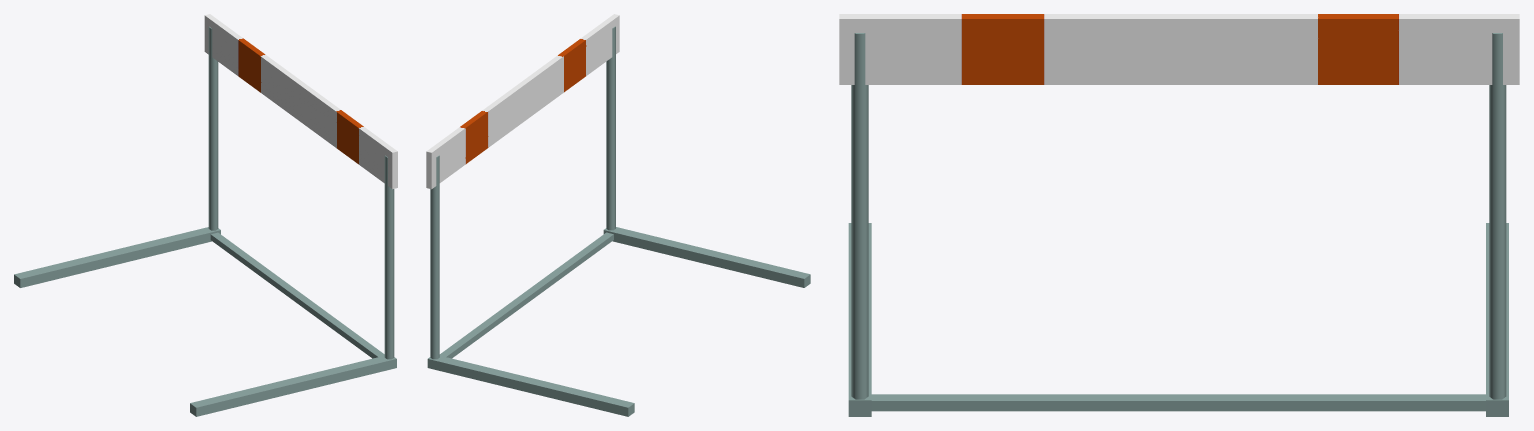
Rendered from HURDLE__400m_woman.FBX.
The picture shows the model from 3 angles, left to right: view 1: azimuth 30°, elevation 25°; view 2: azimuth 150°, elevation 25°; view 3: azimuth 270°, elevation 25°; orthographic projection. The views are drawn at different scales.
Parts seen in each view (by area): view 1: HURDLE__400m_woman; view 2: HURDLE__400m_woman; view 3: HURDLE__400m_woman.
Part boxes in pixels (<box>): HURDLE__400m_woman: <box>14,14,397,416</box>; HURDLE__400m_woman: <box>426,14,810,416</box>; HURDLE__400m_woman: <box>839,14,1519,416</box>.
Size of the model in its own units: 7.32 by 7.63 by 11.86.
